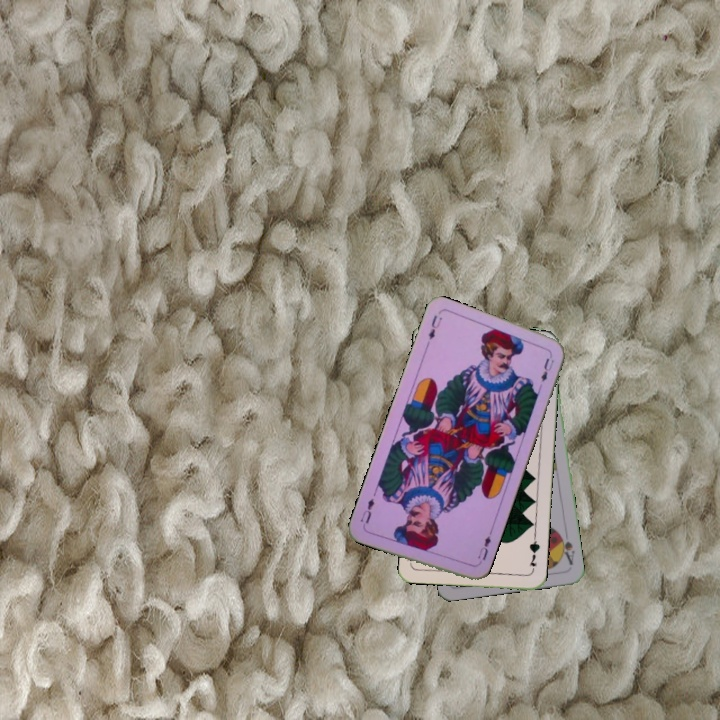EU: (472, 529, 493, 568), (424, 311, 445, 342)
G7: (525, 534, 542, 574)
SA: (555, 528, 577, 567)
